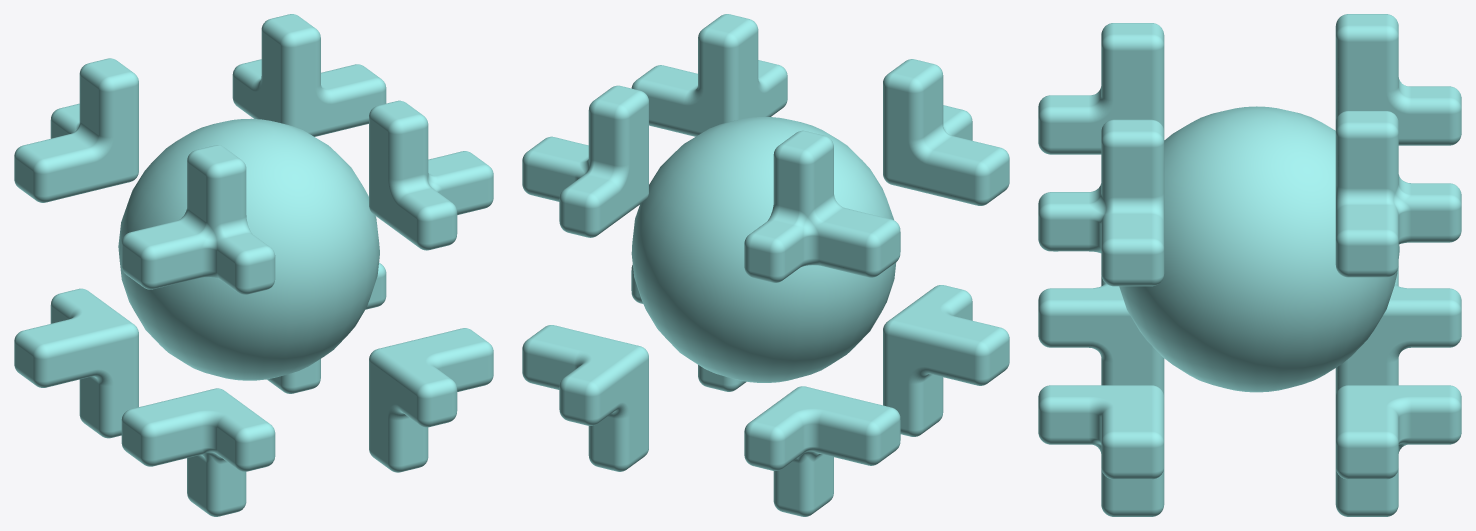
The model's file is HashtagGLB.glb.
3 renders of one model, left to right at view 1: azimuth 30°, elevation 25°; view 2: azimuth 150°, elevation 25°; view 3: azimuth 270°, elevation 25°, orthographic. The views are drawn at different scales.
Parts seen in each view (by area): view 1: Buffer Layer 1, Buffer Layer 7, Buffer Layer, Buffer Layer 6, Buffer Layer 3, Buffer Layer 8, Buffer Layer 4, Buffer Layer 2, Buffer Layer 5; view 2: Buffer Layer 1, Buffer Layer 3, Buffer Layer 4, Buffer Layer 2, Buffer Layer 5, Buffer Layer 7, Buffer Layer, Buffer Layer 6, Buffer Layer 8; view 3: Buffer Layer 1, Buffer Layer 6, Buffer Layer 2, Buffer Layer 5, Buffer Layer 8, Buffer Layer 3, Buffer Layer 7, Buffer Layer, Buffer Layer 4.
Part boxes in pixels (<box>): Buffer Layer 1: <box>118,118,379,380</box>; Buffer Layer 7: <box>121,145,275,294</box>; Buffer Layer: <box>121,388,275,516</box>; Buffer Layer 6: <box>369,100,493,250</box>; Buffer Layer 3: <box>14,58,138,202</box>; Buffer Layer 8: <box>369,328,493,472</box>; Buffer Layer 4: <box>14,288,138,438</box>; Buffer Layer 2: <box>232,14,386,136</box>; Buffer Layer 5: <box>267,262,386,393</box>; Buffer Layer 1: <box>631,117,896,382</box>; Buffer Layer 3: <box>744,130,900,282</box>; Buffer Layer 4: <box>744,386,900,516</box>; Buffer Layer 2: <box>522,85,648,237</box>; Buffer Layer 5: <box>522,325,648,471</box>; Buffer Layer 7: <box>883,59,1009,205</box>; Buffer Layer: <box>883,285,1009,436</box>; Buffer Layer 6: <box>631,14,787,136</box>; Buffer Layer 8: <box>631,265,746,391</box>; Buffer Layer 1: <box>1119,106,1399,392</box>; Buffer Layer 6: <box>1038,119,1164,286</box>; Buffer Layer 2: <box>1335,111,1461,277</box>; Buffer Layer 5: <box>1335,385,1461,516</box>; Buffer Layer 8: <box>1038,385,1164,516</box>; Buffer Layer 3: <box>1335,14,1461,145</box>; Buffer Layer 7: <box>1038,23,1164,154</box>; Buffer Layer: <box>1038,276,1164,396</box>; Buffer Layer 4: <box>1335,267,1461,396</box>.
Size of the model in its own units: 0.0875 by 0.0857 by 0.0836.
